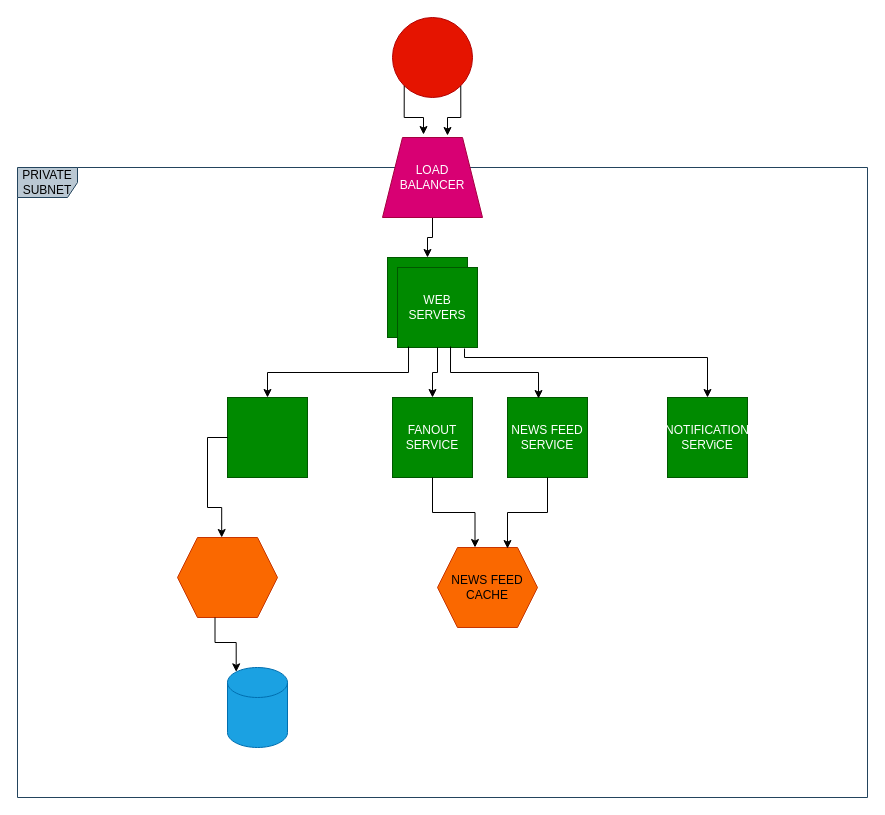
Some shapes in this 885 by 815 pixel diagram are drawn without their labels. The centre of each missing label's shape, as x and y in pixels:
"POST CACHE" belongs at (x=227, y=577).
"POST DB" belongs at (x=257, y=707).
"POST SERVICE" belongs at (x=267, y=437).
"USER" belongs at (x=432, y=57).
